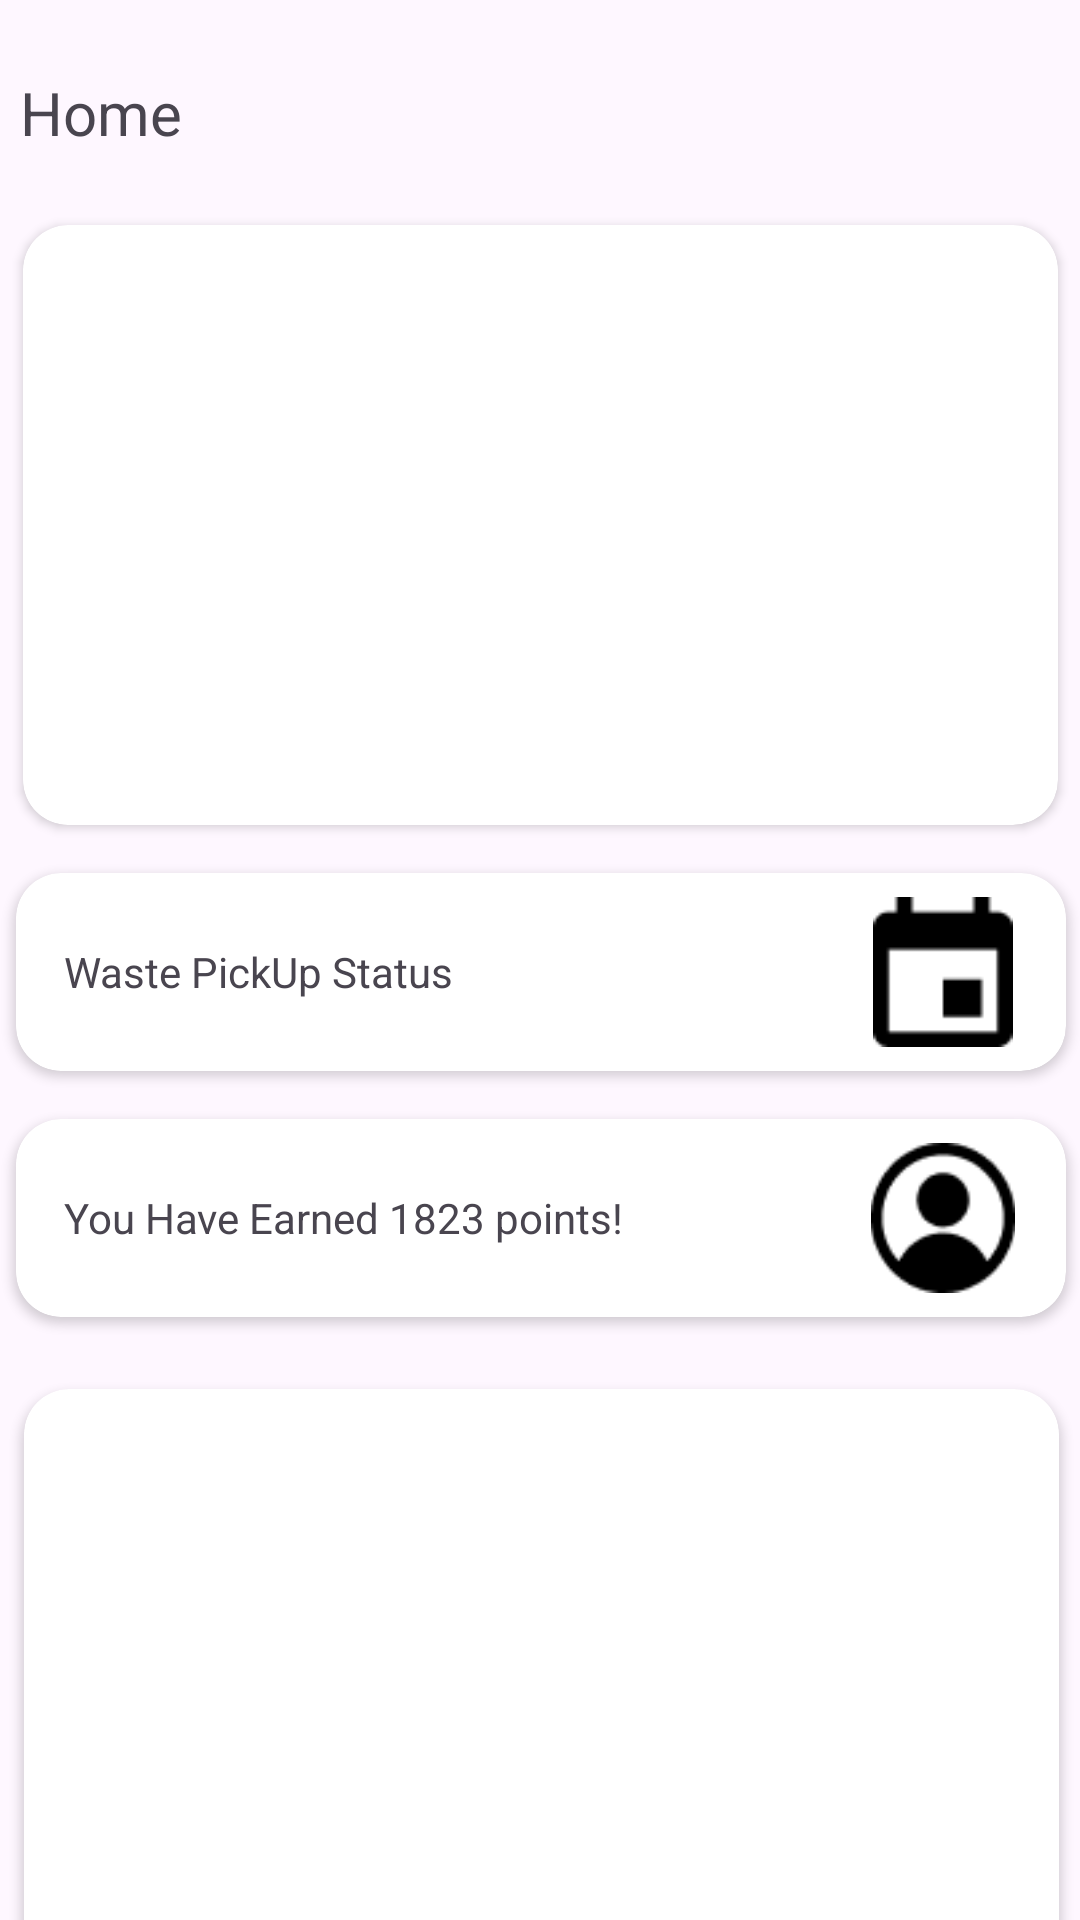

Screen size 1080x1920. Icon name, then its box in pixels as (x1, y1, x2, y2):
profileicon: (871, 1143, 1015, 1293)
scheduleicon: (873, 897, 1013, 1047)
